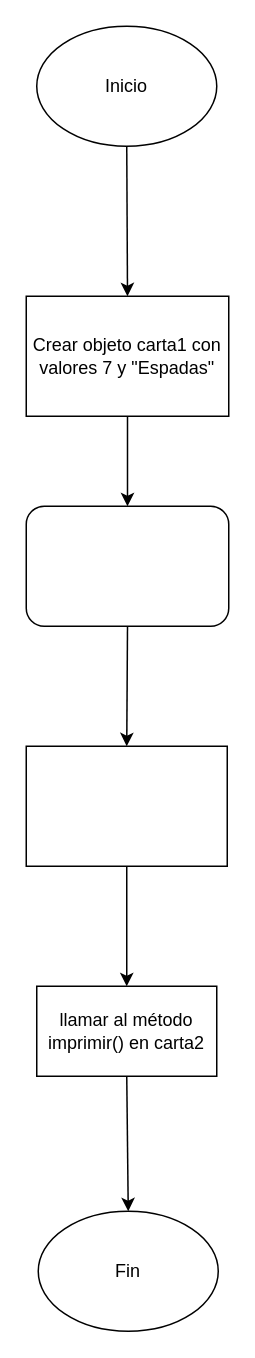
The diagram is 255 pixels wide and 1358 high, and some of its shapes have lost their labels. Each missing label, with the centre of its shape:
Crear objeto carta2 con valores 8 y "Diamantes": point (126, 805)
Llamar al método imprimir() en carta1: point (127, 565)
